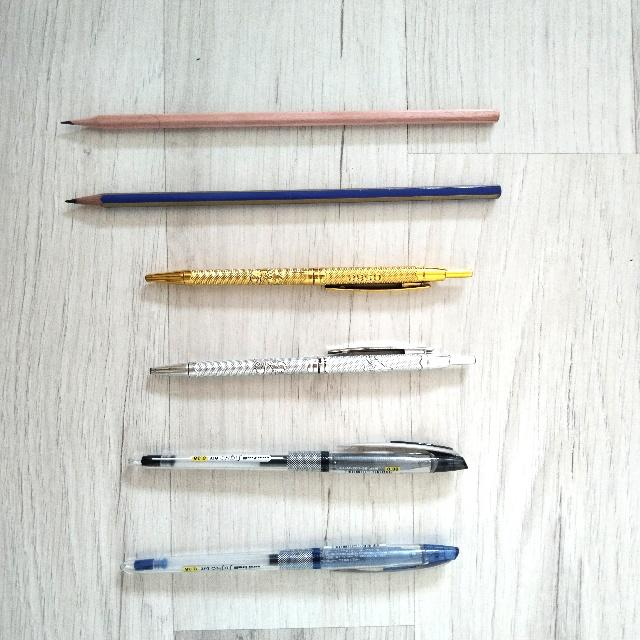pen: (131, 441, 466, 473), (121, 544, 458, 572)
pencil: (66, 185, 500, 206), (63, 109, 498, 128)
signature pen: (150, 346, 475, 376), (145, 266, 471, 290)
